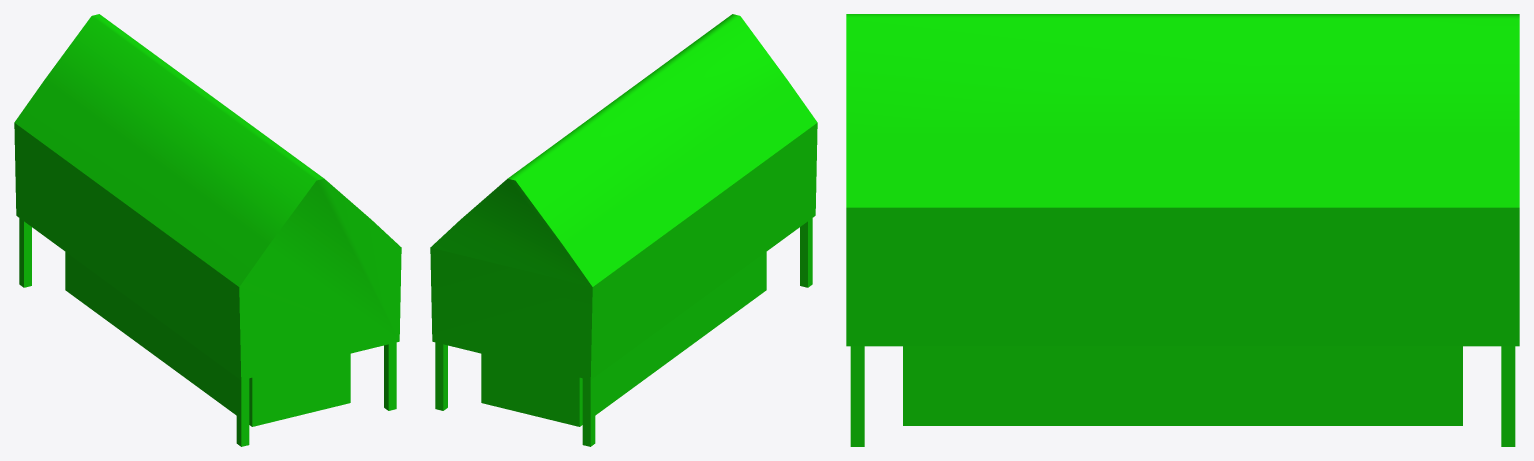
Rendered from Convex_barracks.fbx.
The picture shows the model from 3 angles, left to right: view 1: azimuth 30°, elevation 25°; view 2: azimuth 150°, elevation 25°; view 3: azimuth 270°, elevation 25°; orthographic projection. The views are drawn at different scales.
Parts seen in each view (by area): view 1: barracks_convex, barracks_convex.001, barracks_convex.005, barracks_convex.004, barracks_convex.002; view 2: barracks_convex, barracks_convex.001, barracks_convex.002, barracks_convex.003, barracks_convex.005; view 3: barracks_convex, barracks_convex.001, barracks_convex.003, barracks_convex.004.
Part boxes in pixels (<box>): barracks_convex: <box>14,14,401,380</box>; barracks_convex.001: <box>65,252,350,426</box>; barracks_convex.005: <box>236,377,249,446</box>; barracks_convex.004: <box>384,342,396,410</box>; barracks_convex.002: <box>19,218,31,287</box>; barracks_convex: <box>430,14,817,380</box>; barracks_convex.001: <box>481,252,766,426</box>; barracks_convex.002: <box>582,377,595,446</box>; barracks_convex.003: <box>435,342,447,410</box>; barracks_convex.005: <box>800,218,812,287</box>; barracks_convex: <box>846,14,1519,346</box>; barracks_convex.001: <box>903,346,1462,425</box>; barracks_convex.003: <box>1501,346,1515,446</box>; barracks_convex.004: <box>850,346,864,446</box>.
Size of the model in its own units: 14.33 by 21.05 by 34.39.
